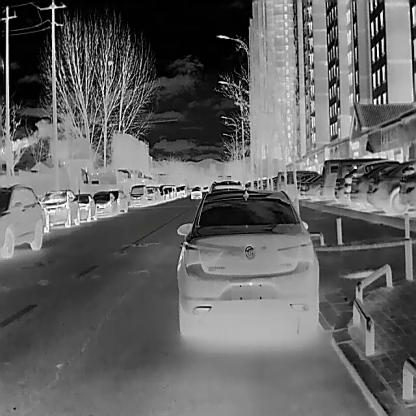car: (178, 184, 320, 339), (0, 186, 45, 258), (366, 160, 416, 215), (350, 163, 400, 203), (40, 188, 80, 226), (320, 158, 336, 196), (92, 193, 117, 216), (75, 194, 96, 220), (129, 184, 147, 206), (300, 176, 321, 194), (110, 190, 126, 212), (146, 185, 160, 204), (190, 186, 202, 198)
